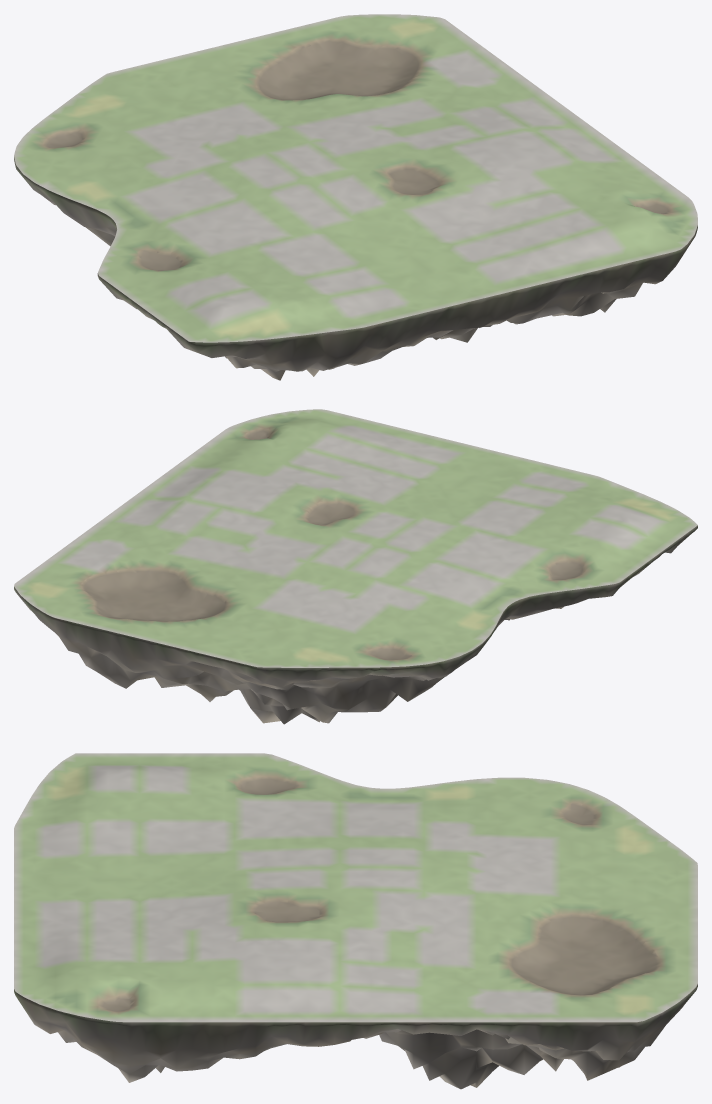
File: SKY-041.rock.glb
3 views of the same model, one above another, from view 1: azimuth 30°, elevation 25°; view 2: azimuth 150°, elevation 25°; view 3: azimuth 270°, elevation 25° (orthographic). The views are drawn at different scales.
Visible parts, largest first — view 1: deck-col, rock; view 2: deck-col, rock; view 3: deck-col, rock.
Boxes of the visible parts, box(x1,y1,x2,y2) form: deck-col: box(14, 14, 697, 342); rock: box(14, 157, 697, 380); deck-col: box(14, 409, 697, 667); rock: box(14, 525, 697, 724); deck-col: box(14, 753, 697, 1022); rock: box(14, 984, 697, 1089).
Bounding box in the file's own units: 242 × 78.43 × 260.
